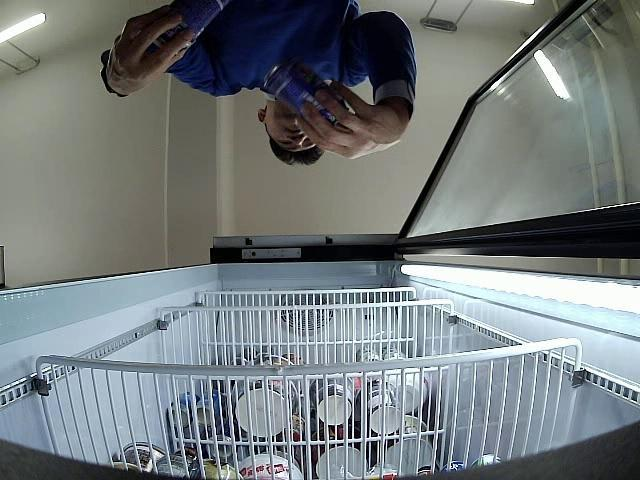14_welchsGrape: (261, 62, 349, 126), (152, 1, 223, 50)
